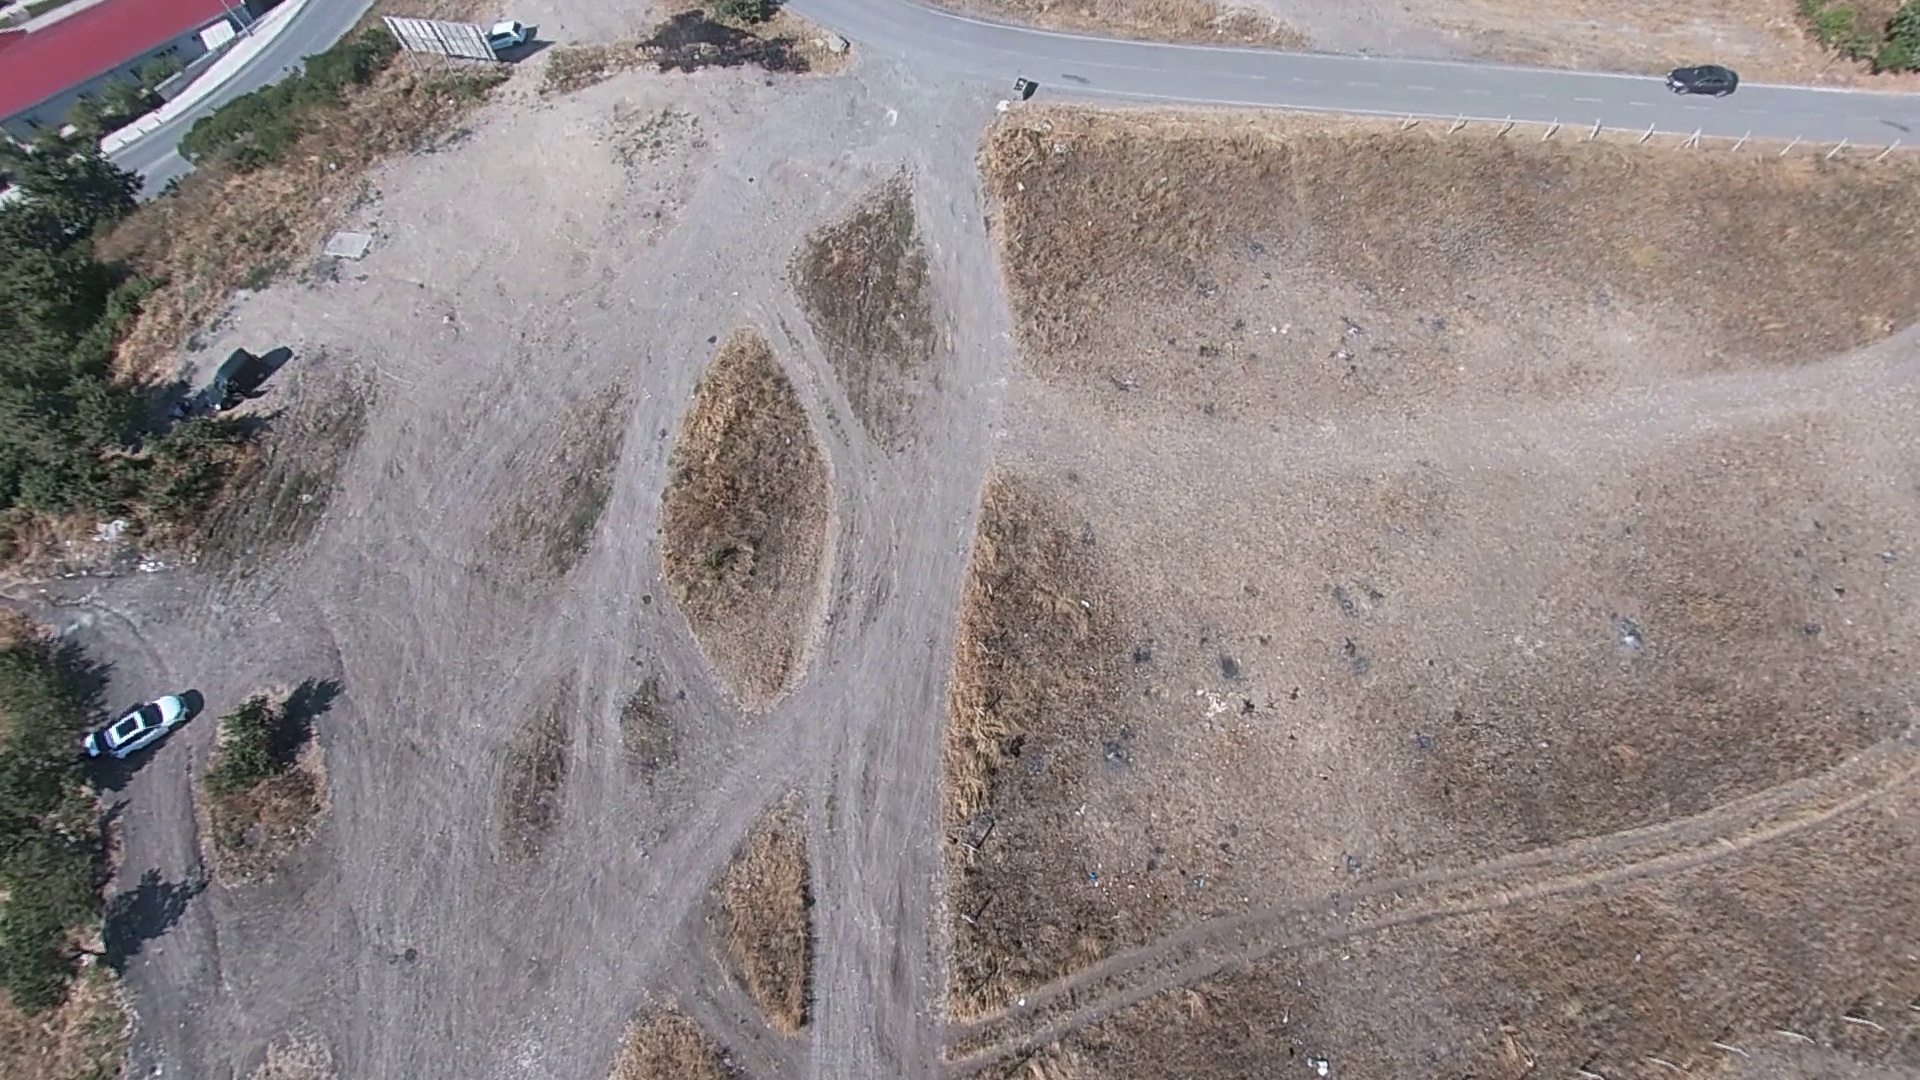arac: (85, 692, 203, 762), (198, 341, 280, 408), (1667, 53, 1742, 106)
insan: (483, 16, 546, 60)
